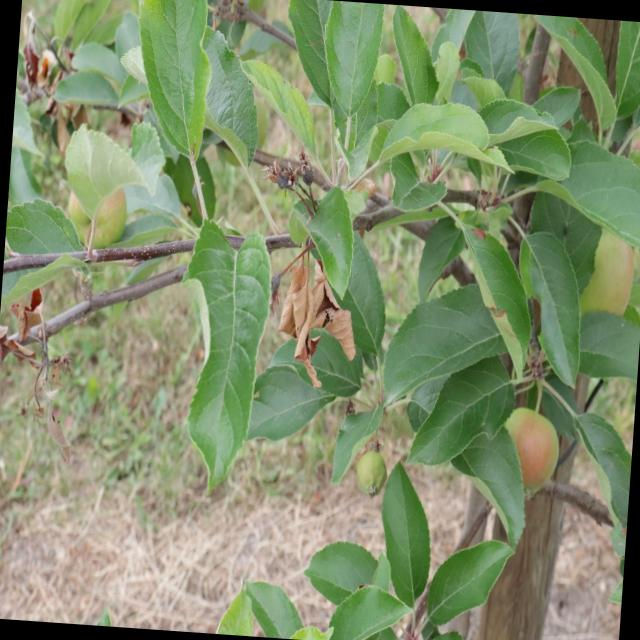-FireBlight-: (280, 212, 366, 384)
